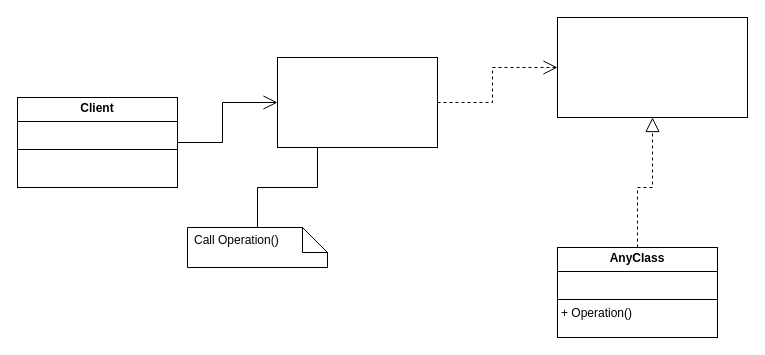
The diagram is 765 pixels wide and 355 high, and some of its shapes have lost their labels. Each missing label, with the centre of its shape:
<<Interface>> IPrimitives + Operation(): (652,67)
Algorithm + TemplateMethod(): (357,102)
